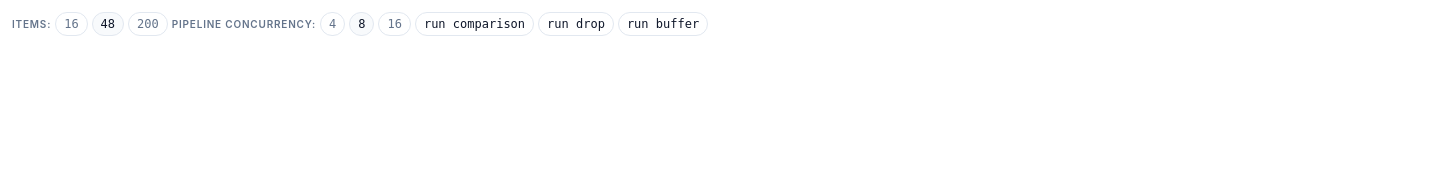
Scenario: ReactiveCompareDemo › rides the selected item count and pipeline concurrency on the request URL
Click the button "200".
click(148, 24)  # box [128,12,168,36]
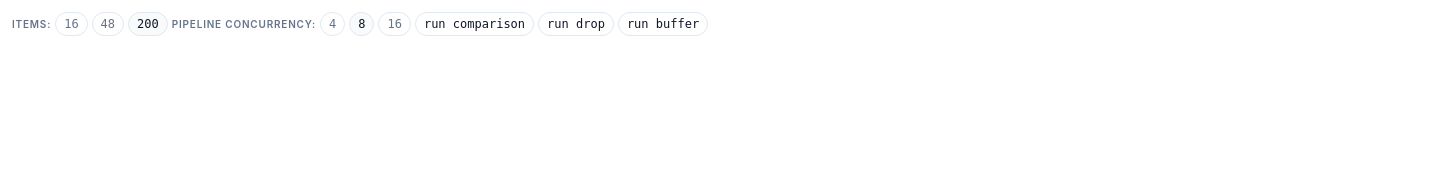
Click the button "4".
click(333, 24)  # box [320,12,345,36]
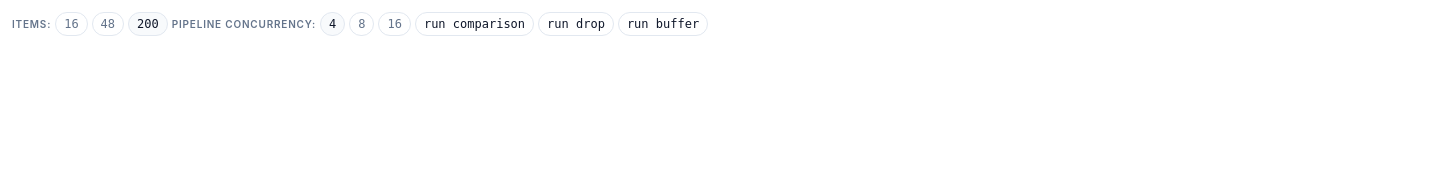
Click the button with test id "reactive-run-compare".
click(474, 24)  # box [415,12,534,36]
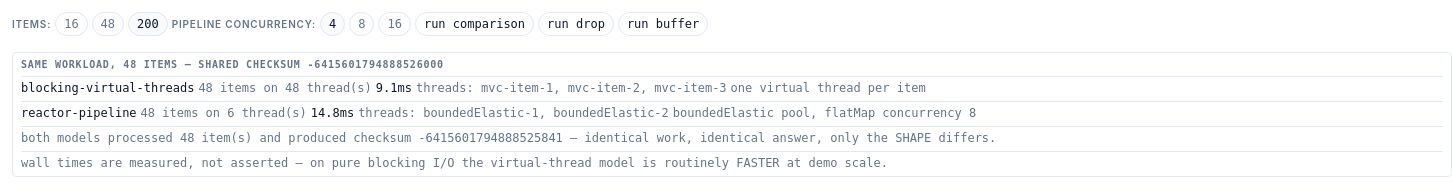
Check: the element with test id "reactive-compare-report" is shown
